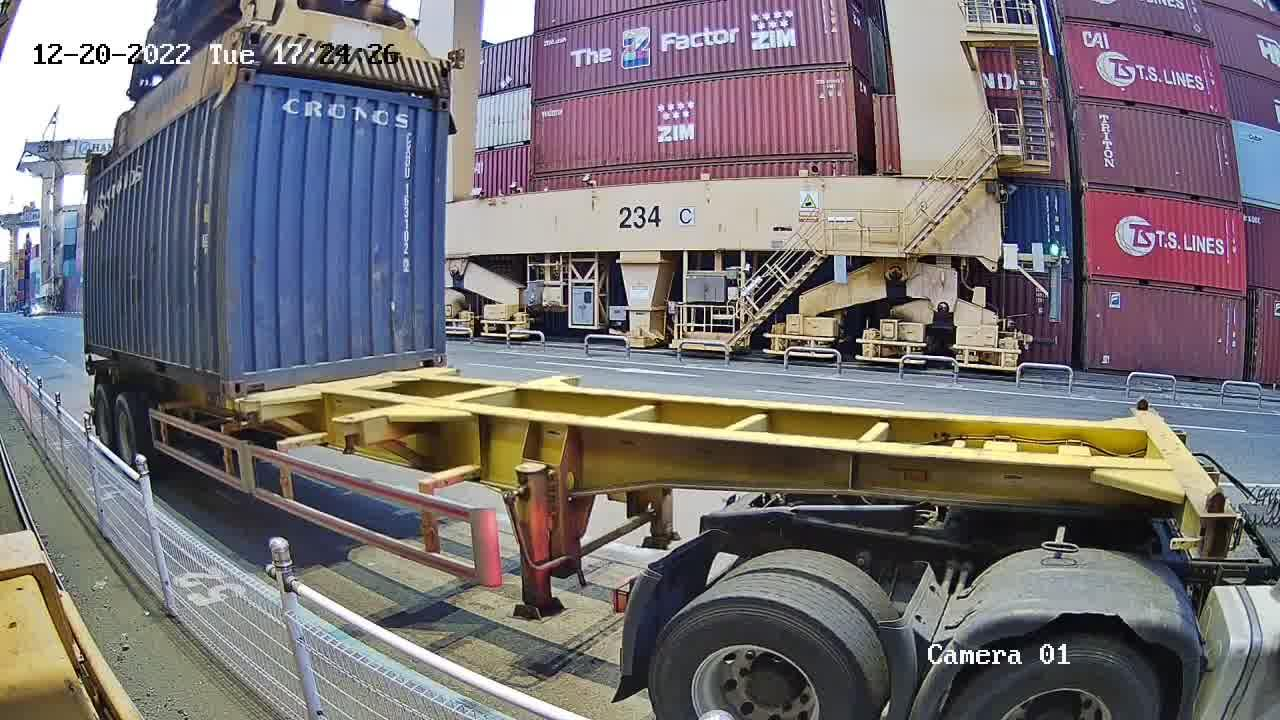Chassis: (242, 369, 462, 421)
Cone: (233, 395, 250, 427), (219, 397, 232, 422)
Hole_L: (229, 361, 262, 397)
Hole_R: (416, 336, 445, 368), (208, 361, 231, 398)
Tire: (115, 396, 137, 463), (93, 387, 113, 444)
